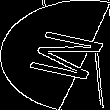M_E: (8, 25, 102, 85)
